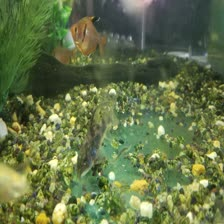Kiros: (70, 97, 127, 175)
Transparente: (67, 12, 113, 56)
